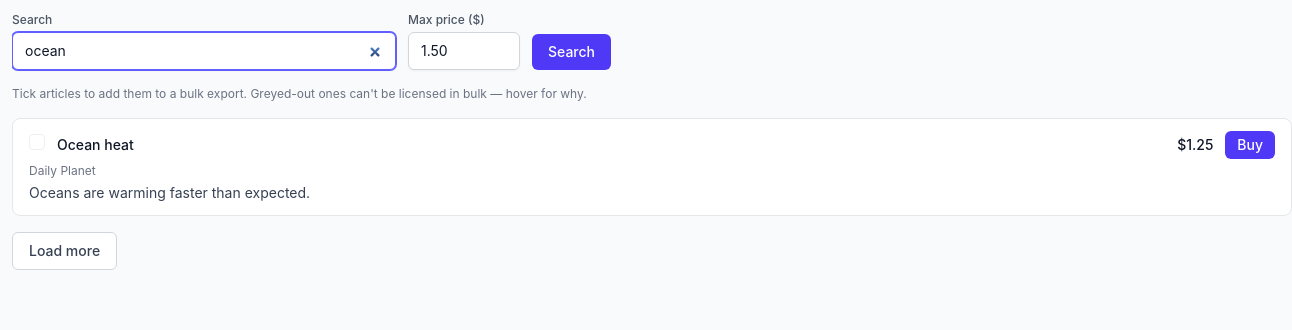
Test case: ContentSearch › Load more fetches the next page with the same filters and appends it
The image size is (1292, 330).
Click the button "Load more".
click(65, 251)  # box [12,232,117,270]
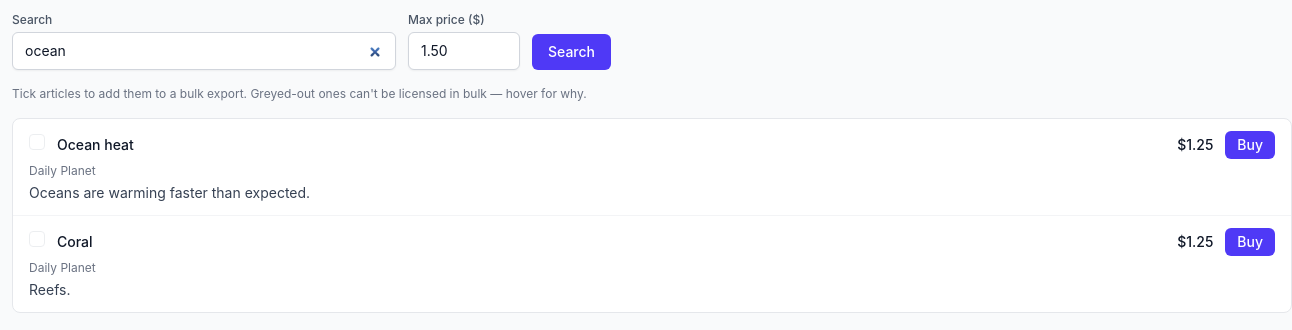
Expected: the text "Ocean heat" is shown, [57,135,134,155]
Expected: the text "Coral" is shown, [57,232,93,252]
Expected: the button "Load more" is gone
